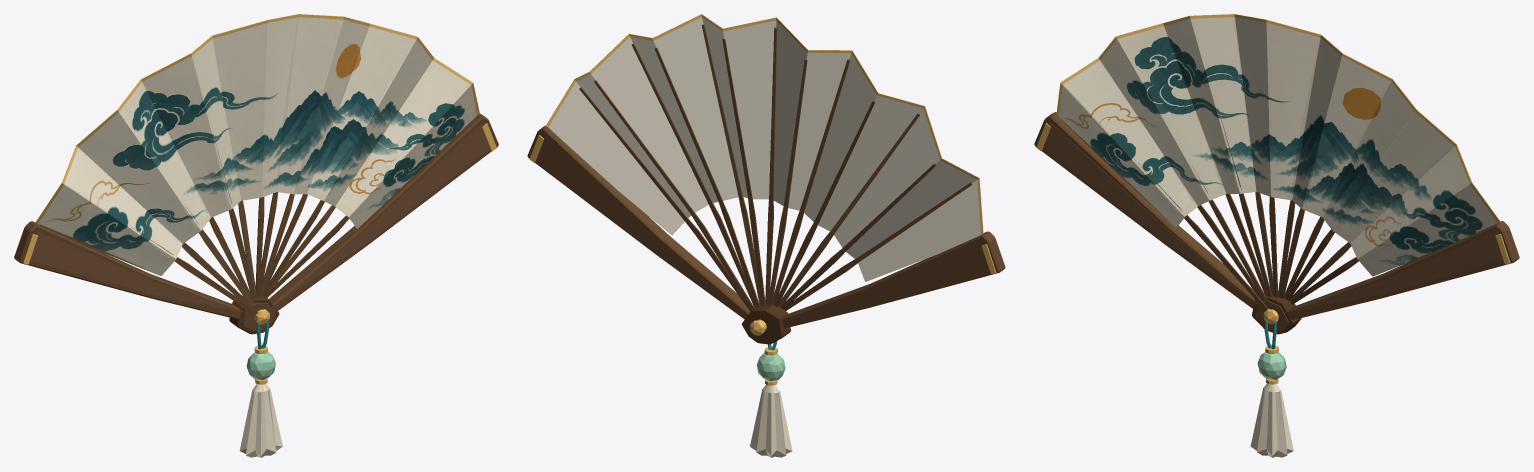
Rendered from Test_CheonFanOpen.fbx.
The picture shows the model from 3 angles, left to right: view 1: azimuth 30°, elevation 25°; view 2: azimuth 150°, elevation 25°; view 3: azimuth 330°, elevation 25°; orthographic projection.
Parts seen in each view (by area): view 1: Fan_PleatedPaper_Static, Fan_OuterGuard_R_Static, Fan_GuardFacet_R_Static, Fan_GuardFacet_L_Static, Fan_OuterGuard_L_Static, Fan_IvoryPleatedTassel_Static, Fan_FacetedJadeBead_Static, Fan_WoodRib_01_Static, Fan_WoodRib_05_Static, Fan_WoodRib_13_Static, Fan_WoodRib_11_Static, Fan_WoodRib_09_Static (+9 smaller); view 2: Fan_PleatedPaper_Static, Fan_OuterGuard_R_Static, Fan_OuterGuard_L_Static, Fan_IvoryPleatedTassel_Static, Fan_WoodRib_07_Static, Fan_WoodRib_10_Static, Fan_WoodRib_11_Static, Fan_WoodRib_08_Static, Fan_WoodRib_09_Static, Fan_WoodRib_12_Static, Fan_WoodRib_05_Static, Fan_WoodRib_06_Static (+7 smaller); view 3: Fan_PleatedPaper_Static, Fan_GuardFacet_L_Static, Fan_GuardFacet_R_Static, Fan_OuterGuard_L_Static, Fan_OuterGuard_R_Static, Fan_IvoryPleatedTassel_Static, Fan_WoodRib_01_Static, Fan_WoodRib_05_Static, Fan_FacetedJadeBead_Static, Fan_WoodRib_03_Static, Fan_WoodRib_02_Static, Fan_WoodRib_04_Static (+9 smaller).
Part boxes in pixels (box(x1,y1,x2,y2)): Fan_PleatedPaper_Static: box(37, 14, 477, 275); Fan_OuterGuard_R_Static: box(269, 113, 498, 312); Fan_GuardFacet_R_Static: box(271, 122, 489, 307); Fan_GuardFacet_L_Static: box(30, 231, 244, 312); Fan_OuterGuard_L_Static: box(14, 221, 243, 319); Fan_IvoryPleatedTassel_Static: box(239, 383, 282, 457); Fan_FacetedJadeBead_Static: box(246, 351, 275, 380); Fan_WoodRib_01_Static: box(131, 227, 257, 314); Fan_WoodRib_05_Static: box(215, 143, 256, 299); Fan_WoodRib_13_Static: box(266, 215, 349, 297); Fan_WoodRib_11_Static: box(263, 200, 324, 295); Fan_WoodRib_09_Static: box(259, 194, 294, 296); Fan_PleatedPaper_Static: box(548, 14, 983, 281); Fan_OuterGuard_R_Static: box(527, 125, 749, 319); Fan_OuterGuard_L_Static: box(782, 231, 1005, 328); Fan_IvoryPleatedTassel_Static: box(750, 384, 792, 457); Fan_WoodRib_07_Static: box(765, 27, 777, 305); Fan_WoodRib_10_Static: box(655, 48, 760, 307); Fan_WoodRib_11_Static: box(631, 43, 757, 307); Fan_WoodRib_08_Static: box(722, 38, 765, 306); Fan_WoodRib_09_Static: box(701, 24, 763, 306); Fan_WoodRib_12_Static: box(594, 80, 754, 309); Fan_WoodRib_05_Static: box(772, 59, 849, 304); Fan_WoodRib_06_Static: box(768, 59, 807, 305); Fan_PleatedPaper_Static: box(1058, 14, 1497, 276); Fan_GuardFacet_L_Static: box(1043, 122, 1257, 303); Fan_GuardFacet_R_Static: box(1284, 231, 1503, 313); Fan_OuterGuard_L_Static: box(1034, 112, 1256, 309); Fan_OuterGuard_R_Static: box(1285, 221, 1519, 319); Fan_IvoryPleatedTassel_Static: box(1250, 383, 1293, 457); Fan_WoodRib_01_Static: box(1134, 159, 1268, 310); Fan_WoodRib_05_Static: box(1219, 112, 1272, 296); Fan_FacetedJadeBead_Static: box(1257, 352, 1286, 380); Fan_WoodRib_03_Static: box(1192, 166, 1267, 300); Fan_WoodRib_02_Static: box(1197, 205, 1264, 300); Fan_WoodRib_04_Static: box(1225, 194, 1267, 296).
Bounding box in the file's own units: 0.5137 × 0.4478 × 0.0453.
Materials: 12 (1 with a texture image).
